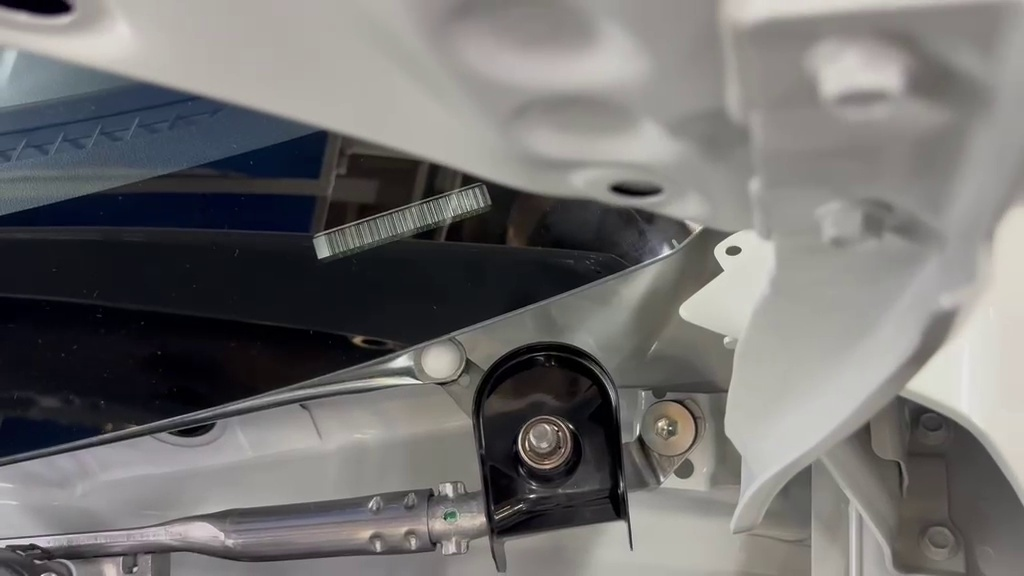barcode: (448, 334, 684, 576)
hinge: (299, 167, 506, 273)
